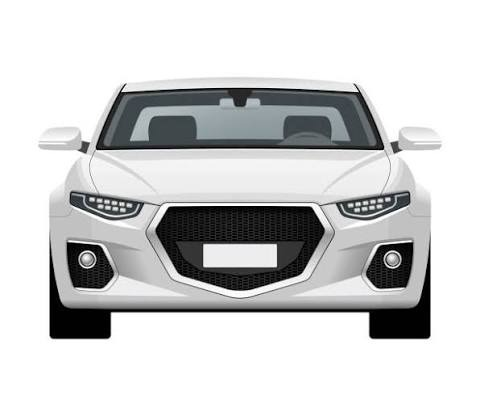car: (33, 85, 439, 315)
